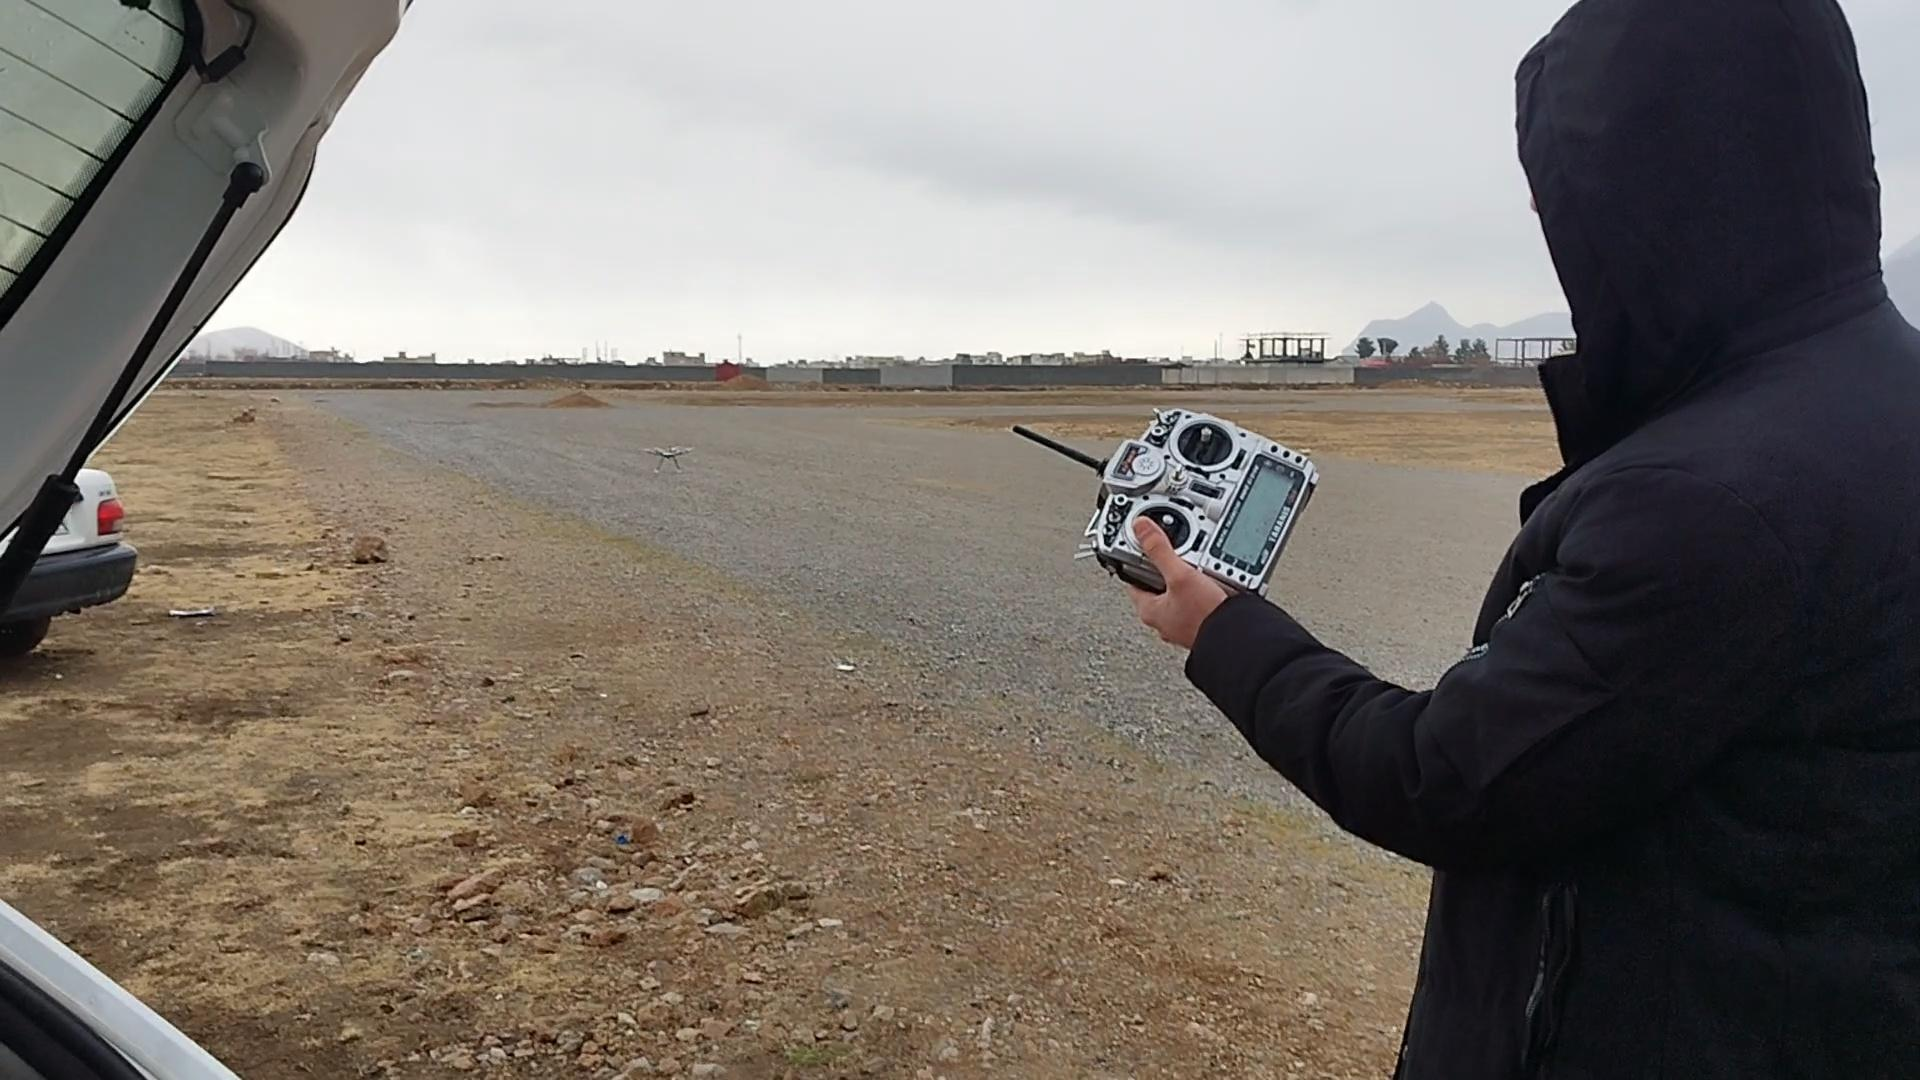drone: (637, 439, 698, 480)
